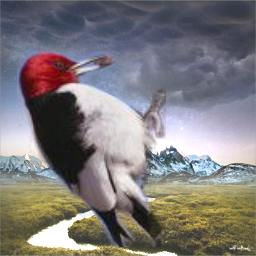Woodpecker: (17, 51, 166, 247)
